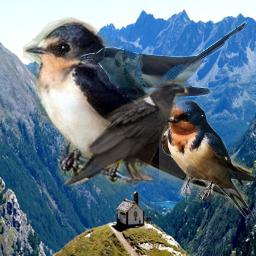Crow: (62, 79, 189, 191)
Cuckoo: (80, 20, 253, 106)
Swallow: (23, 17, 252, 209), (159, 99, 255, 221)
